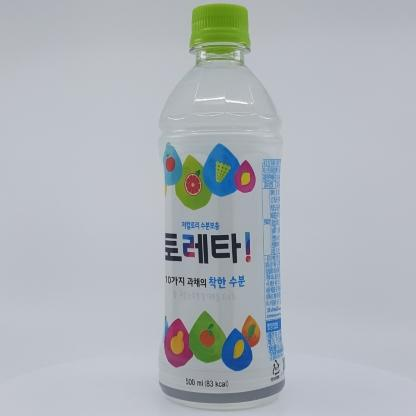-----500ML: (158, 3, 286, 410)
